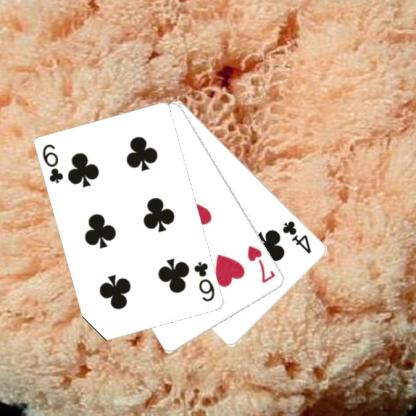4C: (280, 218, 313, 255)
6C: (191, 259, 217, 303), (40, 142, 66, 186)
7H: (245, 242, 277, 284)
